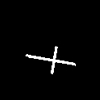single_crochet: (26, 47, 75, 73)
